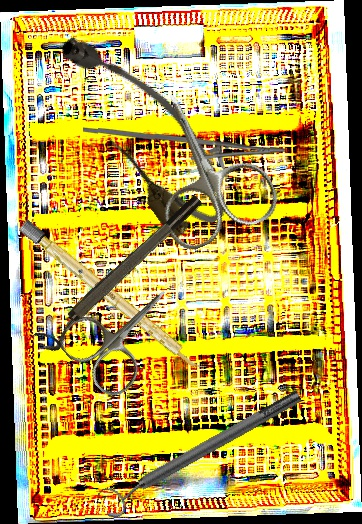Cannula: (46, 9, 243, 248)
Fixation Ring: (94, 381, 309, 522), (33, 191, 211, 357)
Iris Scissors: (120, 71, 285, 257), (52, 260, 196, 404)
Needle Holder: (82, 123, 286, 172)
Scalpel Handle: (18, 218, 207, 376)
